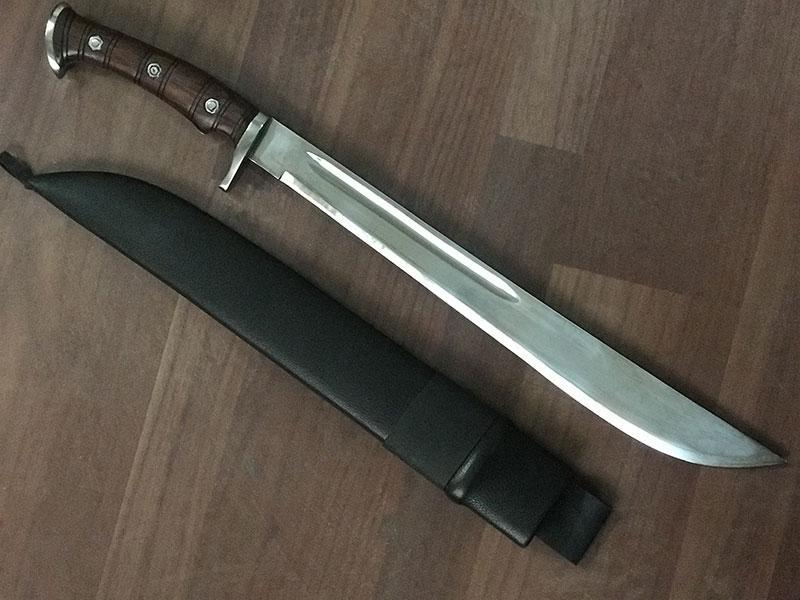facao: (20, 13, 796, 482)
